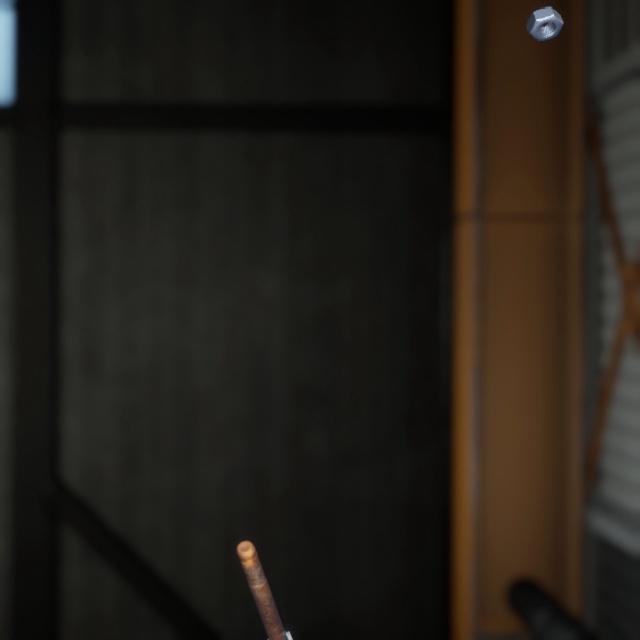bolt: (232, 511, 300, 640)
nut: (521, 0, 568, 38)
